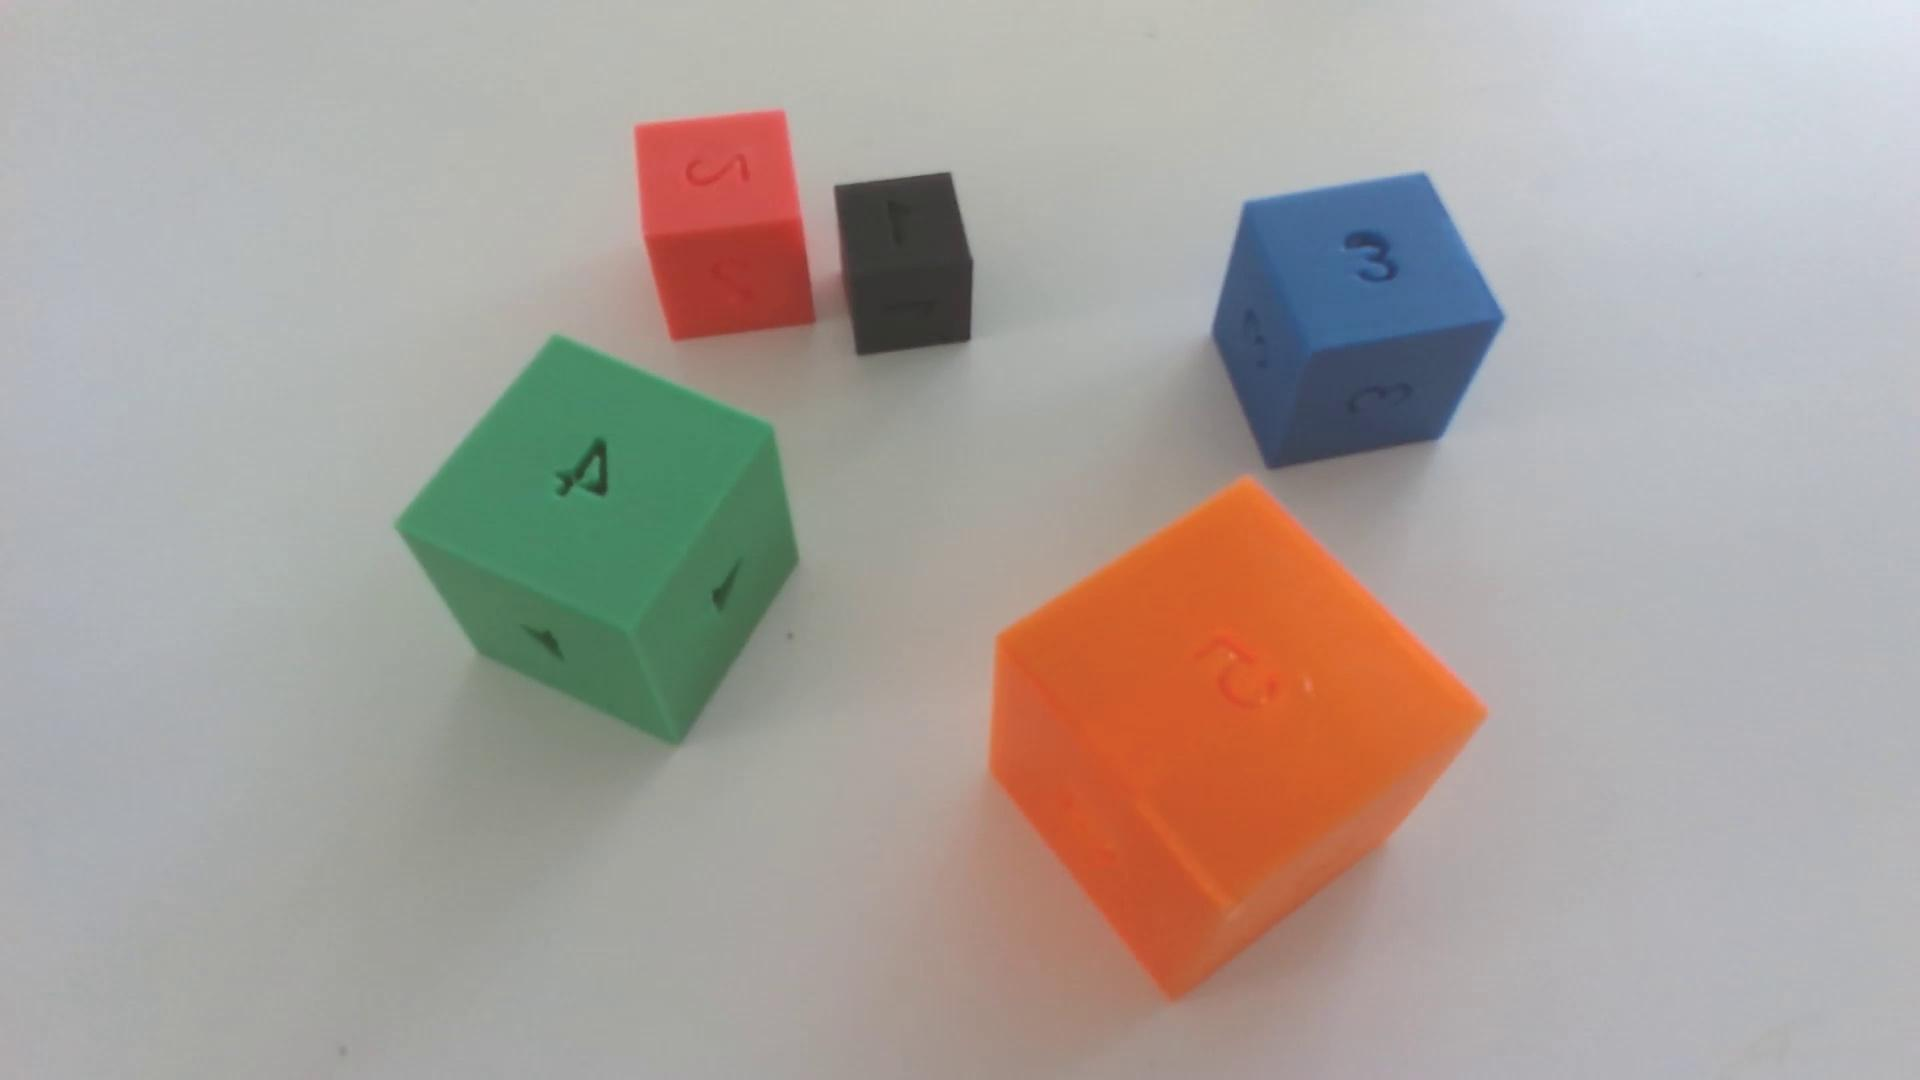black: (835, 173, 975, 357)
blue: (1212, 175, 1505, 469)
green: (398, 338, 798, 742)
orange: (990, 481, 1485, 998)
red: (636, 111, 815, 342)
